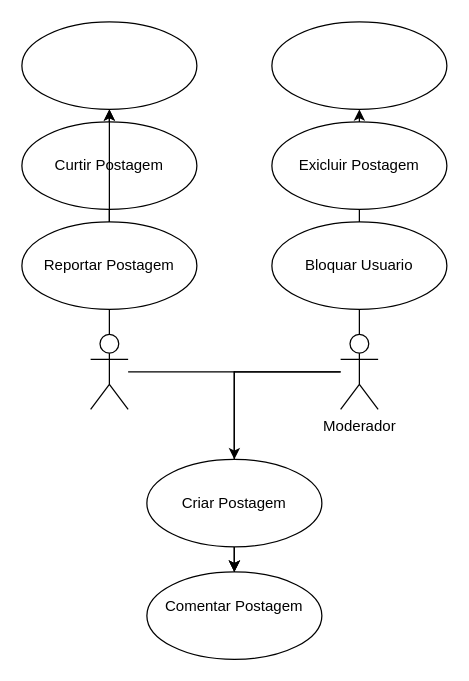
Image size: 469x681. Some labels were removed from this diagram. Here are the shapes that lost their labels. From the top down, the centre of each, then its label:
point (109, 65): Editar Postagem
point (359, 65): Editar Qualquer Postagem
point (108, 371): Regular
